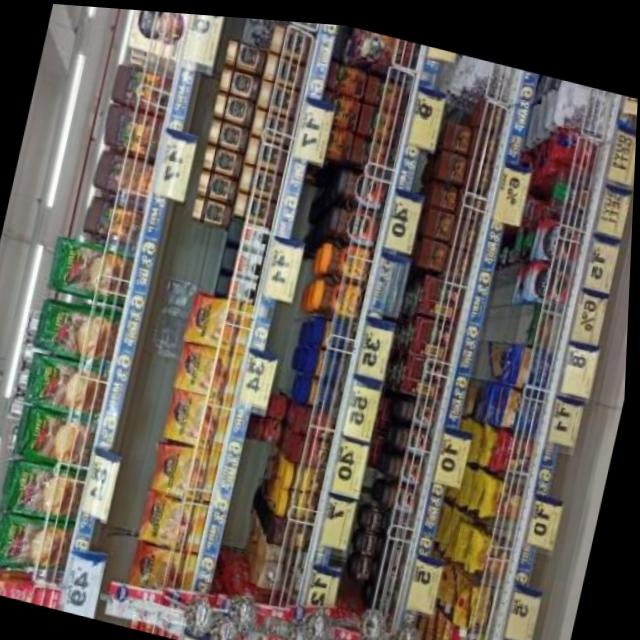Coffee: (186, 290, 256, 352), (145, 490, 212, 549), (156, 439, 223, 498), (166, 387, 231, 446), (132, 539, 200, 595), (178, 340, 245, 396), (316, 235, 374, 282), (310, 271, 367, 316), (337, 161, 391, 206), (329, 197, 380, 243), (535, 210, 580, 255), (527, 251, 571, 293), (245, 132, 288, 167), (212, 87, 253, 123), (200, 139, 243, 172), (250, 106, 293, 139), (396, 418, 436, 453), (269, 20, 310, 54), (239, 161, 281, 194), (383, 473, 422, 508), (218, 62, 259, 95), (257, 78, 298, 111), (223, 35, 265, 67), (207, 114, 249, 146), (192, 189, 233, 221), (263, 52, 304, 84), (234, 188, 275, 220), (388, 448, 428, 480), (402, 391, 441, 423), (197, 166, 237, 197), (386, 532, 411, 564), (356, 523, 383, 552), (353, 547, 378, 576), (364, 498, 388, 527), (382, 561, 406, 590), (394, 509, 418, 538), (379, 587, 400, 611)
